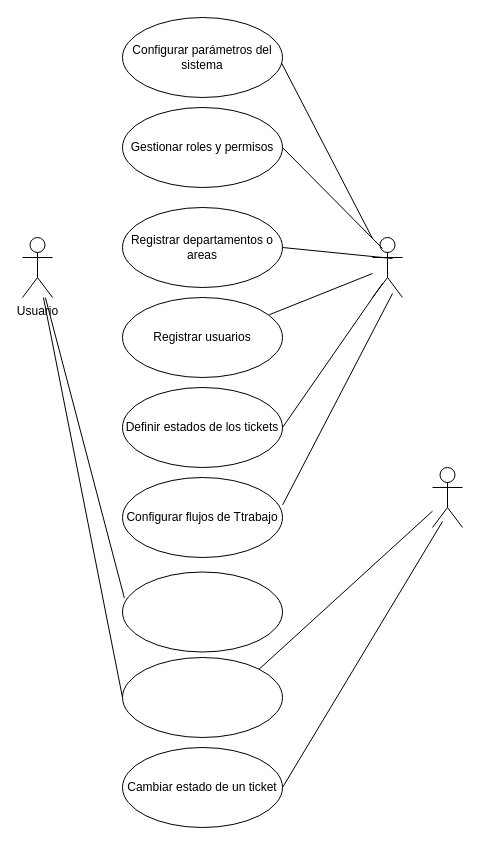
This 485x845 diagram has some shape labels left out. The centre of each missing label's shape, as x and y in pixels:
Administrador: (387,267)
Consultar tickets pendientes: (202,697)
Gestionar tickets: (202,611)
Tecnico: (447,497)
